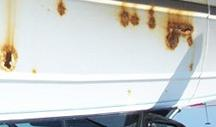rust: (167, 9, 196, 52), (115, 6, 158, 30), (1, 41, 20, 73), (57, 2, 67, 20)
